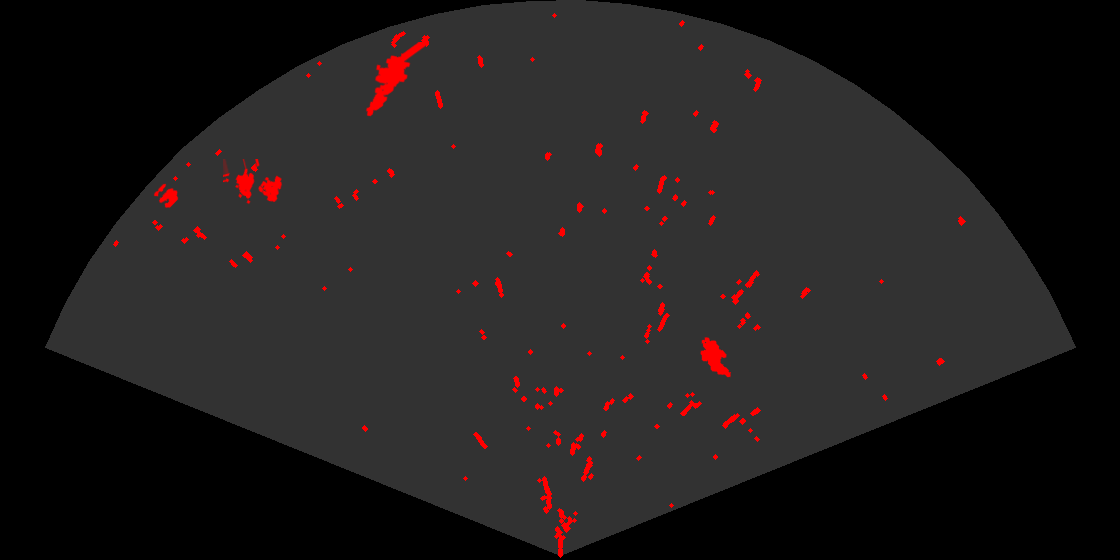AUV: (699, 336, 733, 379)
ball: (152, 182, 180, 210)
cage: (223, 159, 284, 206)
frogman: (364, 42, 426, 118)
